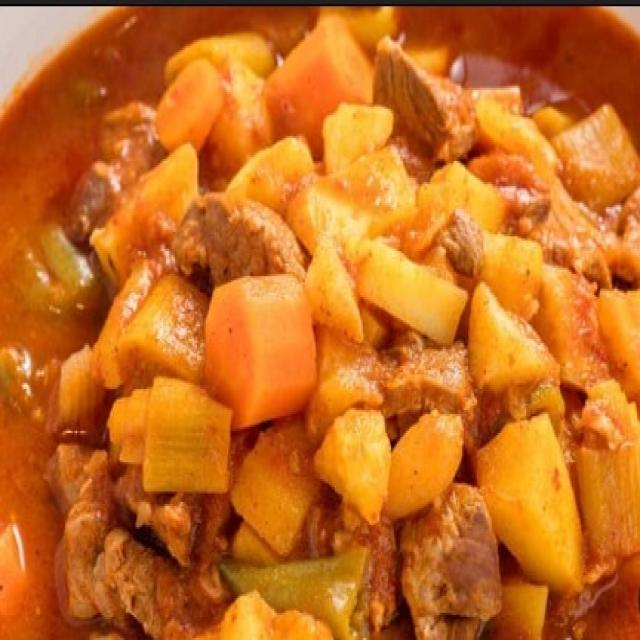corba: (0, 6, 639, 638)
